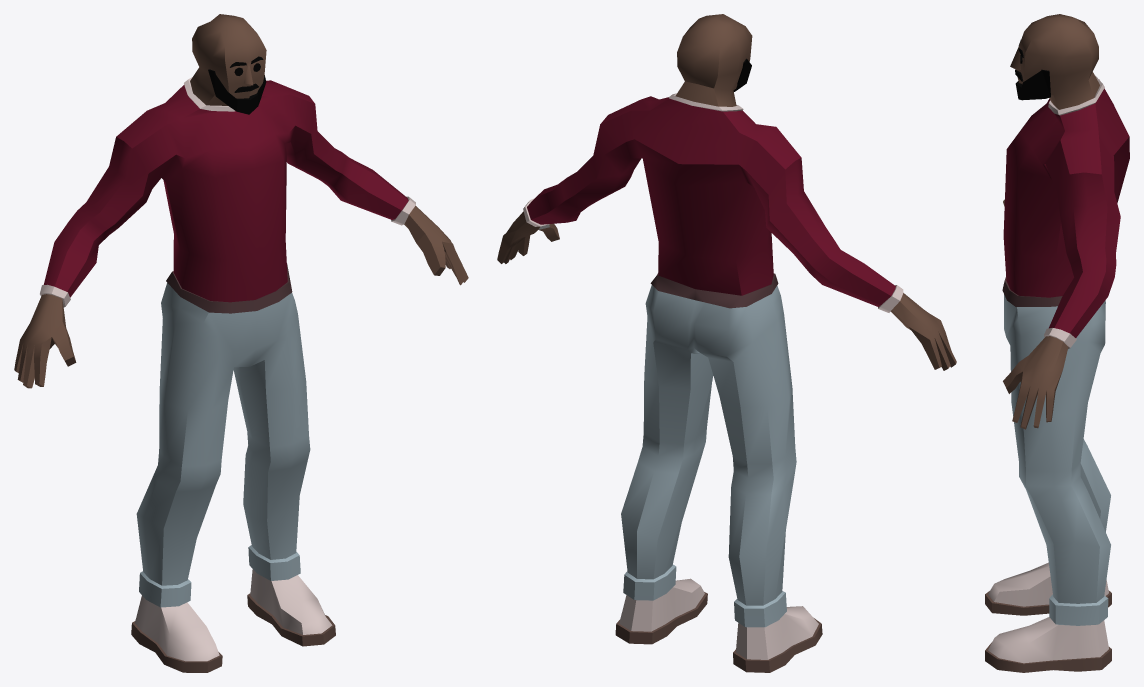
Rendered from LowPolyCharacter3.fbx.
3 views of the same model, side by side, from view 1: azimuth 30°, elevation 25°; view 2: azimuth 150°, elevation 25°; view 3: azimuth 270°, elevation 25° (orthographic).
Visible parts, largest first — view 1: lowPolyCharacterFace4; view 2: lowPolyCharacterFace4; view 3: lowPolyCharacterFace4.
Boxes of the visible parts, left/top/right/bottom form: lowPolyCharacterFace4: left=14, top=14, right=468, bottom=672; lowPolyCharacterFace4: left=497, top=14, right=956, bottom=672; lowPolyCharacterFace4: left=985, top=14, right=1129, bottom=672.
Size of the model in its own units: 139 by 184 by 39.22.
